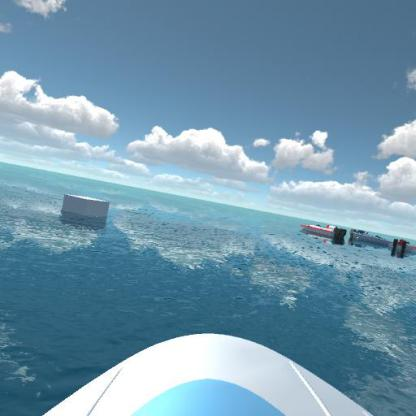usv1: (351, 226, 395, 250)
usv3: (300, 218, 350, 248), (388, 233, 416, 258)
